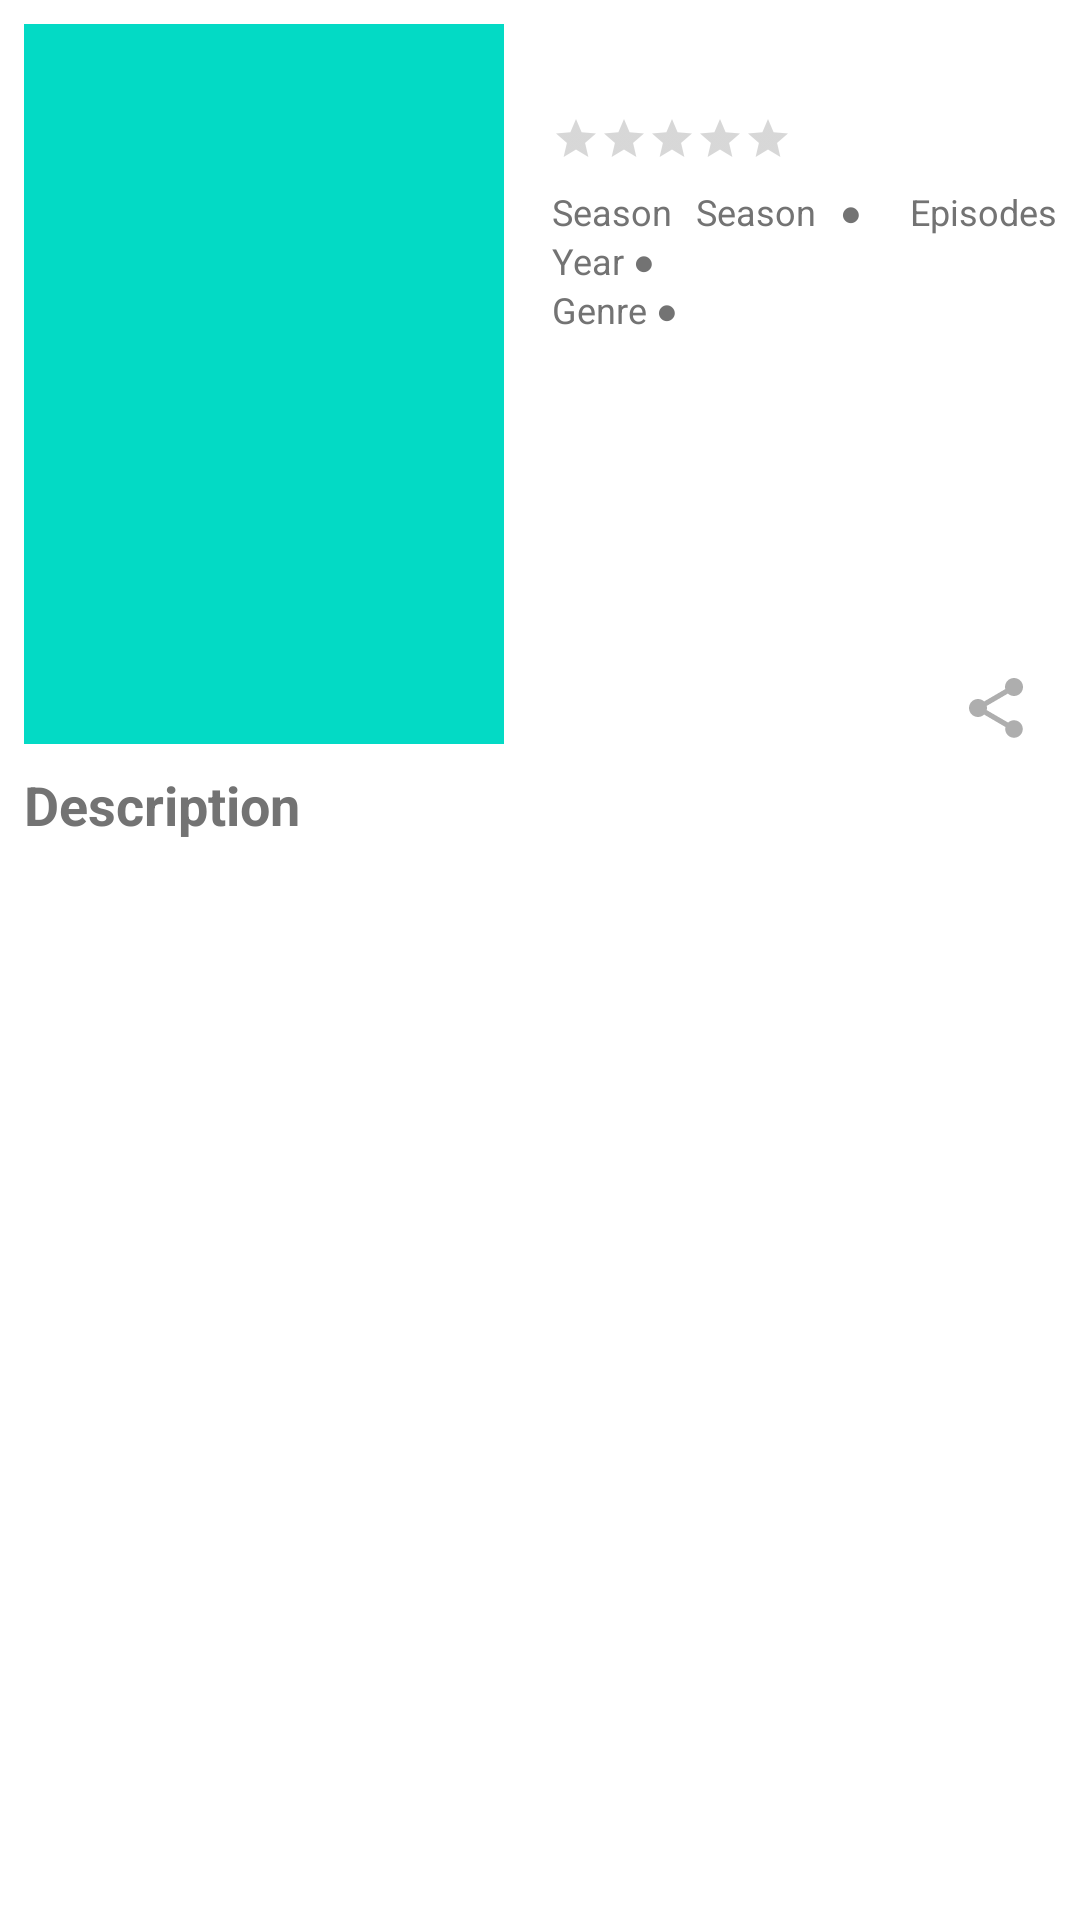

Named icons in this screenshot (1080px×1920px) and their centers, (x=x, y=y):
share: (x=996, y=708)
